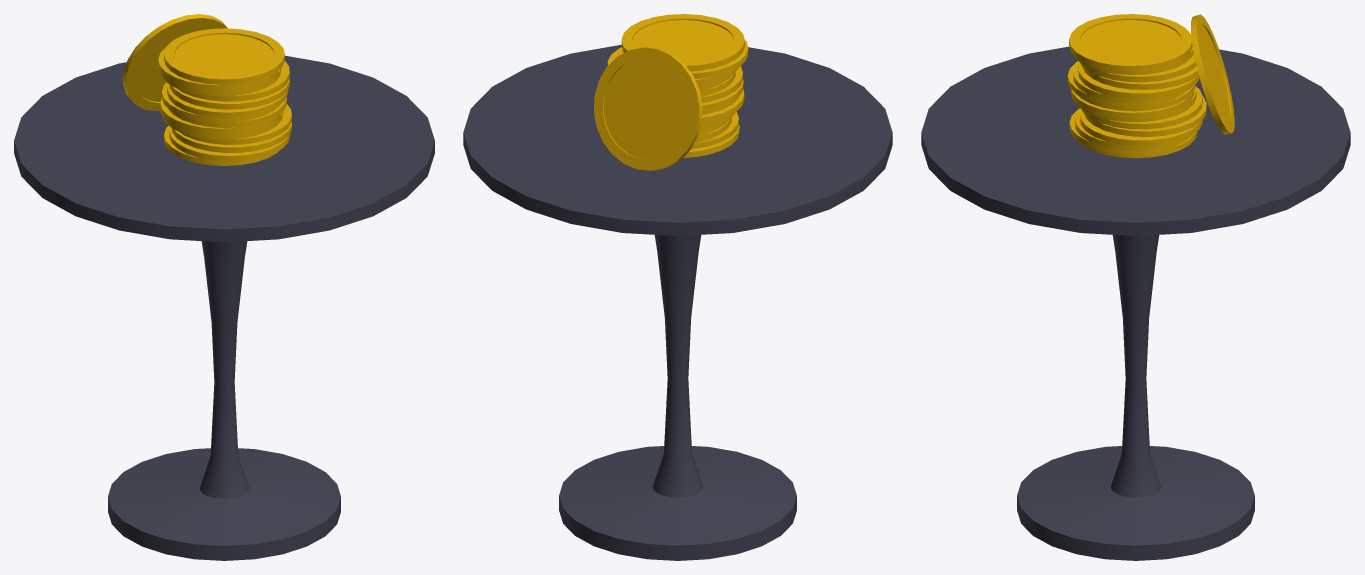
File: Coins.fbx
The picture shows the model from 3 angles, left to right: view 1: azimuth 30°, elevation 25°; view 2: azimuth 150°, elevation 25°; view 3: azimuth 270°, elevation 25°; orthographic projection.
Parts seen in each view (by area): view 1: Cylinder.001, Cylinder.014, Cylinder.009, Cylinder.011, Cylinder.002, Cylinder.003, Cylinder.012, Cylinder.015, Cylinder.006, Cylinder.004, Cylinder.013, Cylinder.010 (+2 smaller); view 2: Cylinder.001, Cylinder.009, Cylinder.014, Cylinder.015; view 3: Cylinder.001, Cylinder.014, Cylinder.009, Cylinder.004, Cylinder.013, Cylinder.007, Cylinder.008, Cylinder.005, Cylinder.016, Cylinder.017, Cylinder.003, Cylinder.012 (+5 smaller).
Boxes of the visible parts, x1,y1,x2,y2 form: Cylinder.001: [14, 55, 434, 560]; Cylinder.014: [164, 28, 284, 84]; Cylinder.009: [123, 14, 227, 111]; Cylinder.011: [167, 83, 288, 118]; Cylinder.002: [169, 127, 290, 161]; Cylinder.003: [171, 122, 291, 152]; Cylinder.012: [169, 79, 289, 109]; Cylinder.015: [158, 48, 276, 90]; Cylinder.006: [160, 98, 278, 134]; Cylinder.004: [180, 104, 291, 144]; Cylinder.013: [178, 61, 289, 101]; Cylinder.010: [161, 82, 277, 122]; Cylinder.001: [463, 44, 892, 560]; Cylinder.009: [593, 47, 702, 170]; Cylinder.014: [621, 14, 744, 71]; Cylinder.015: [690, 39, 748, 78]; Cylinder.001: [921, 46, 1350, 560]; Cylinder.014: [1069, 14, 1192, 71]; Cylinder.009: [1191, 14, 1234, 134]; Cylinder.004: [1080, 110, 1202, 145]; Cylinder.013: [1078, 62, 1199, 98]; Cylinder.007: [1081, 86, 1202, 129]; Cylinder.008: [1084, 96, 1206, 136]; Cylinder.005: [1071, 89, 1194, 118]; Cylinder.016: [1080, 53, 1196, 82]; Cylinder.017: [1081, 65, 1198, 89]; Cylinder.003: [1075, 108, 1194, 150]; Cylinder.012: [1073, 61, 1192, 103].
Size of the model in its own units: 200 by 250 by 200.
